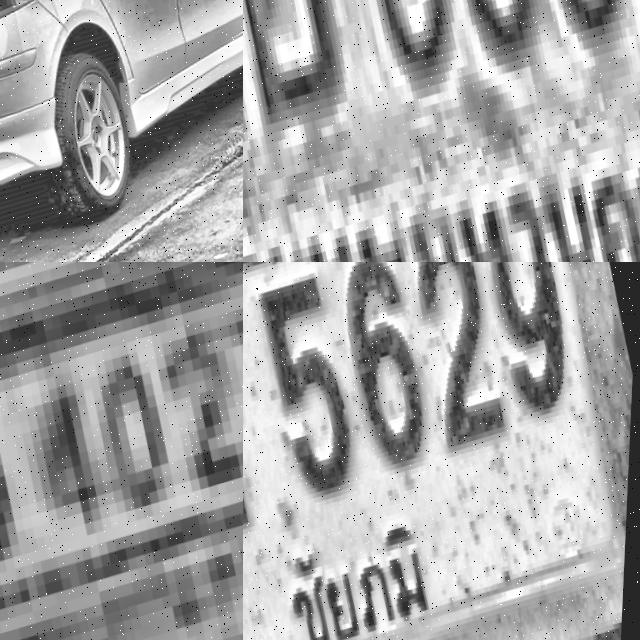license-plate: (243, 262, 640, 640), (243, 0, 640, 262), (0, 262, 243, 640)
